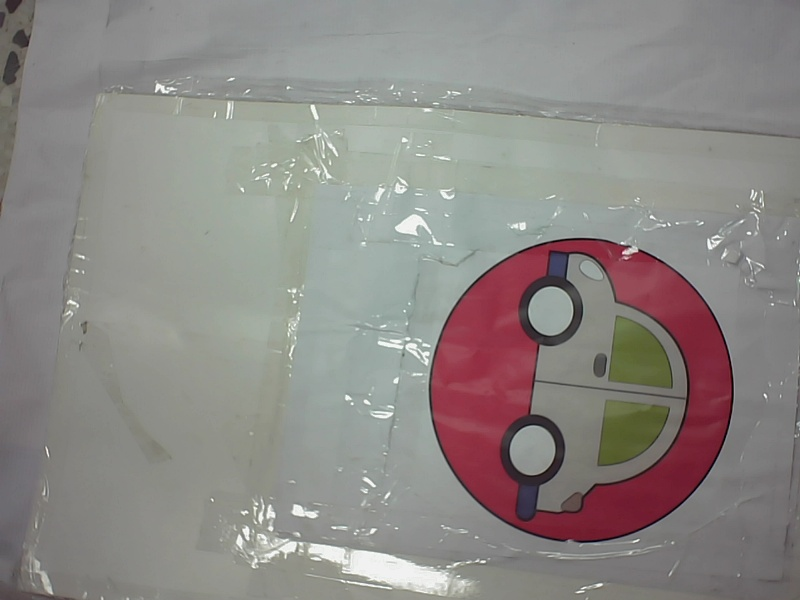areaC: (424, 233, 741, 547)
